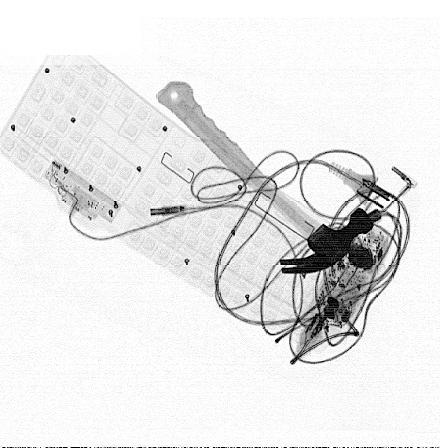Hammer: (153, 81, 375, 276)
